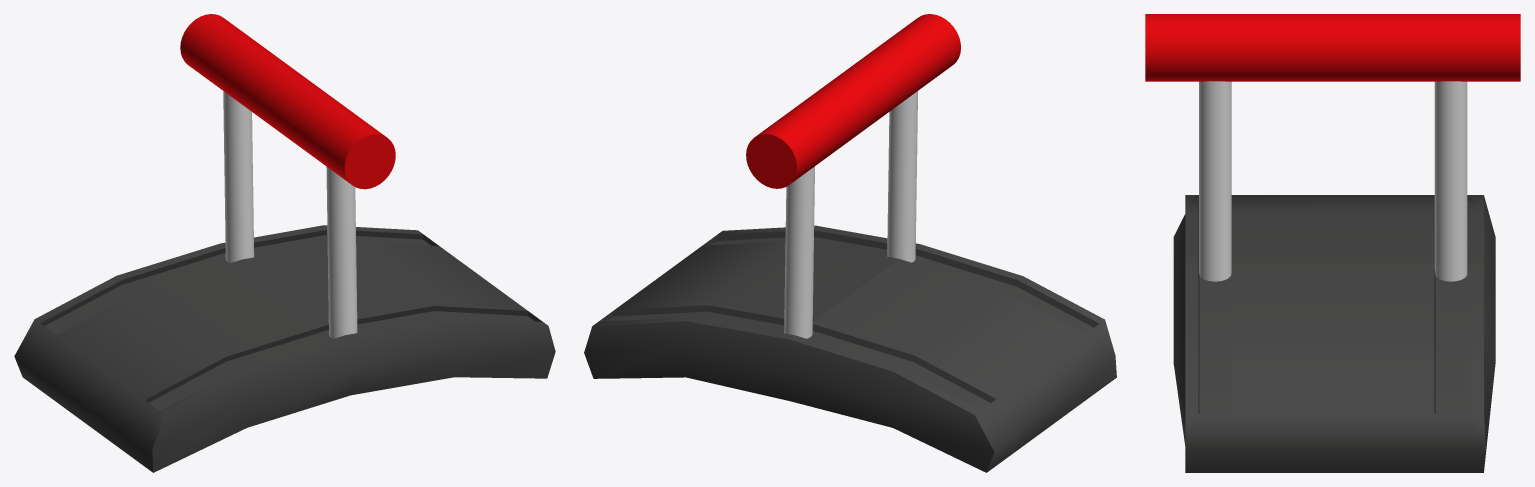
File: Rubylnik.fbx
3 views of the same model, side by side, from view 1: azimuth 30°, elevation 25°; view 2: azimuth 150°, elevation 25°; view 3: azimuth 270°, elevation 25° (orthographic). The views are drawn at different scales.
Parts seen in each view (by area): view 1: Cube, Cylinder.001; view 2: Cube, Cylinder.001; view 3: Cube, Cylinder.001.
Part boxes in pixels (x1,y1,x2,y2): Cube: (14,225,555,472); Cylinder.001: (180,14,395,338); Cube: (584,225,1116,472); Cylinder.001: (746,14,960,338); Cube: (1173,195,1495,472); Cylinder.001: (1145,14,1520,281).
Bounding box in the file's own units: 155 × 110 × 107.
